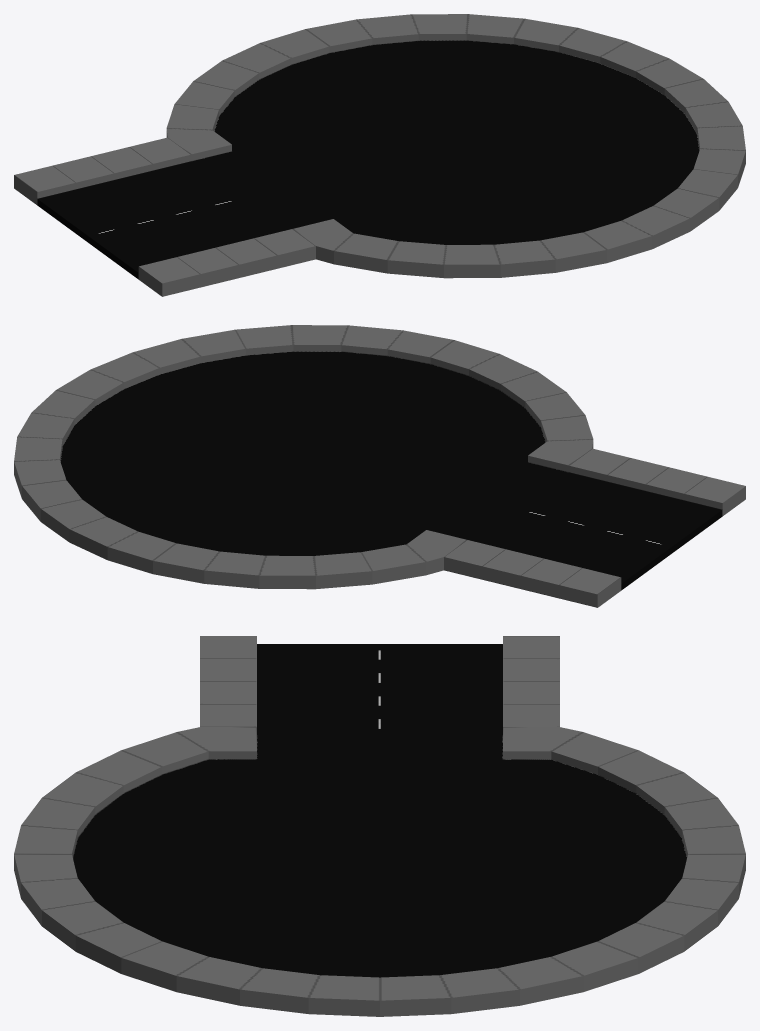
The model's file is Modular Road Circle.fbx.
3 views of the same model, one above another, from view 1: azimuth 30°, elevation 25°; view 2: azimuth 150°, elevation 25°; view 3: azimuth 270°, elevation 25° (orthographic). The views are drawn at different scales.
Parts seen in each view (by area): view 1: Modular Road Circle; view 2: Modular Road Circle; view 3: Modular Road Circle.
Part boxes in pixels (x1,y1,x2,y2): Modular Road Circle: [14, 14, 745, 296]; Modular Road Circle: [14, 325, 745, 607]; Modular Road Circle: [14, 636, 745, 1016].
Size of the model in its own units: 48.06 by 40.77 by 1.
4 materials, 4 textured.
